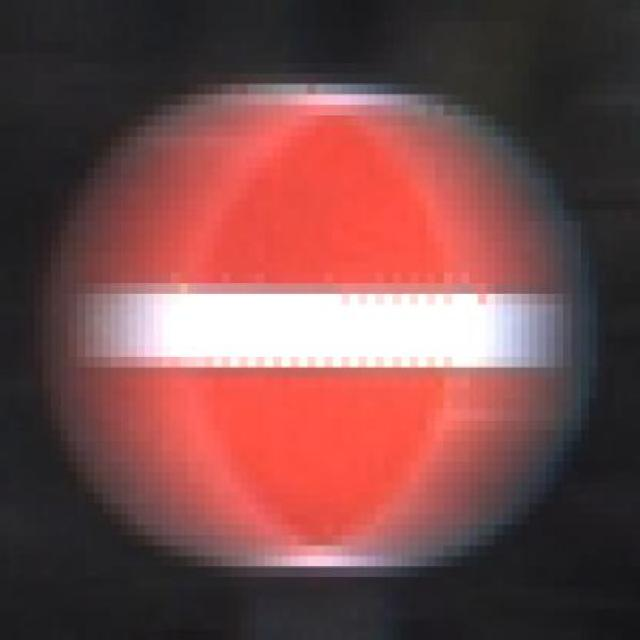No Entry: (35, 63, 614, 588)
